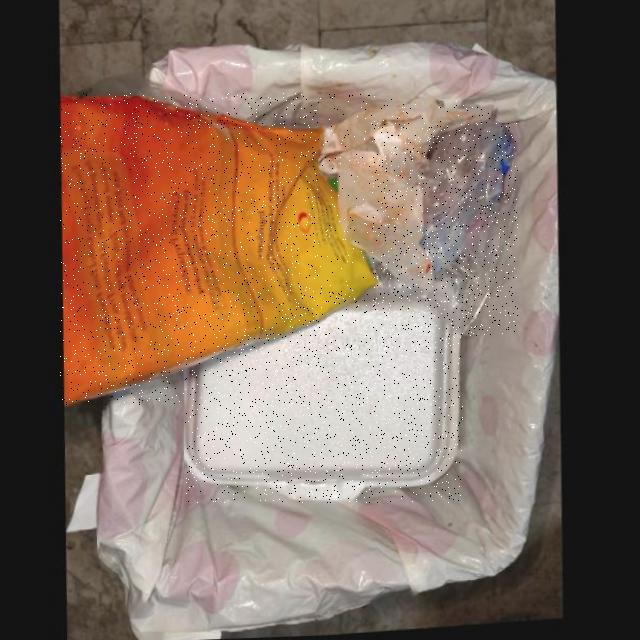paper: (318, 100, 493, 292)
plastic: (373, 124, 518, 337)
styrofoam: (185, 282, 463, 503)
wrapper: (61, 93, 378, 405)
